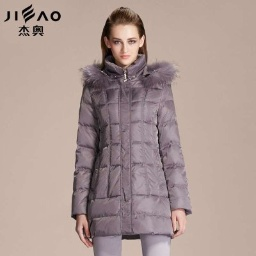face: (91, 2, 157, 72)
